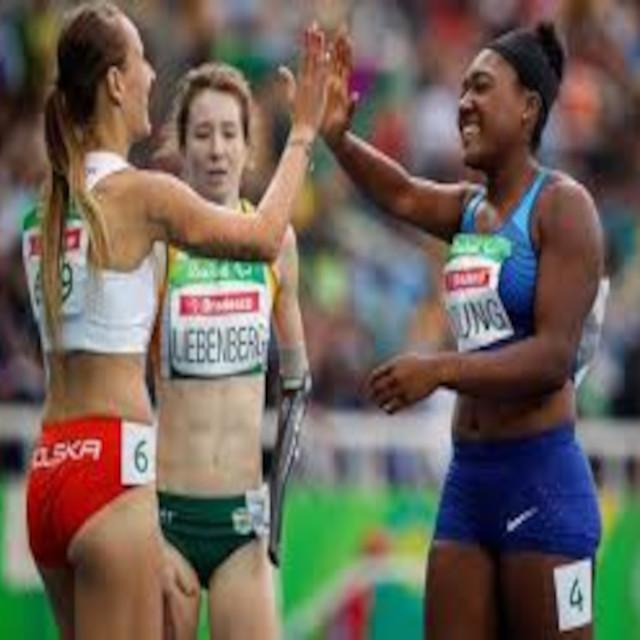kobieta: (374, 8, 631, 640), (13, 8, 199, 640), (124, 52, 294, 640)
